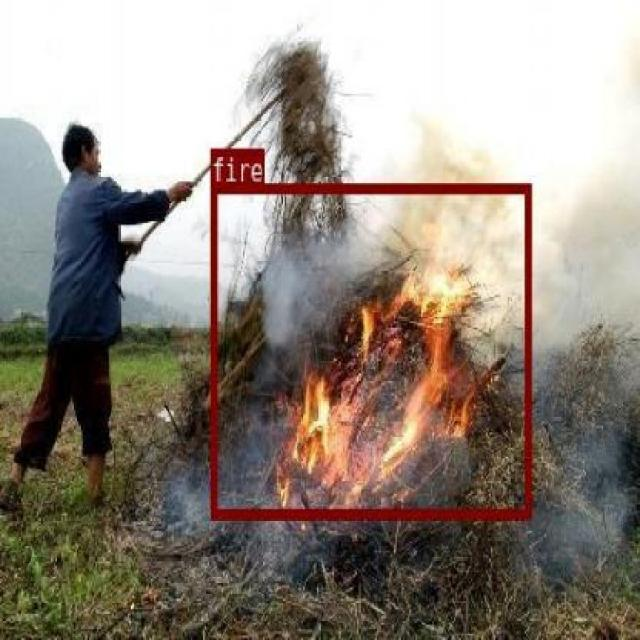Fire: (209, 183, 529, 517)
Smoke: (536, 183, 632, 590)
